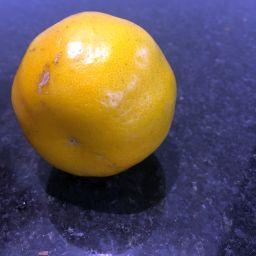Ripe: (11, 10, 181, 178)
